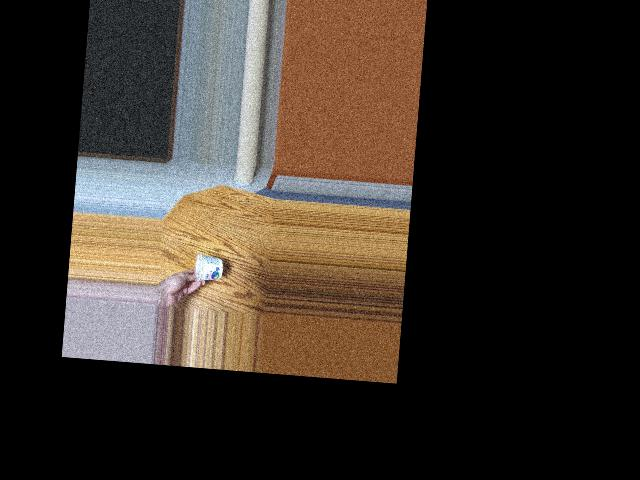cotage: (193, 250, 222, 284)
